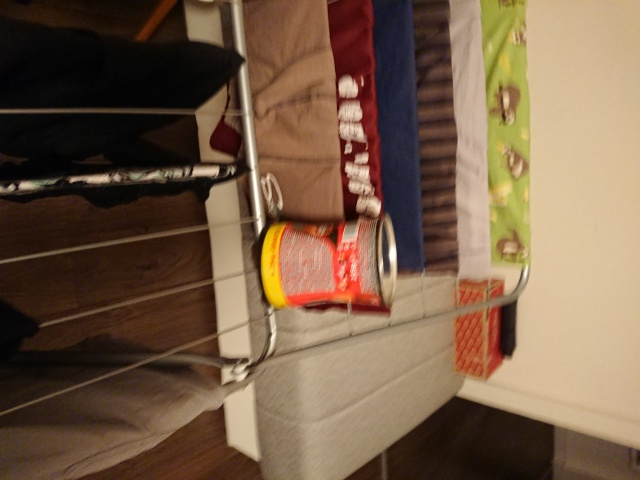Nescafe Classic 225g: (253, 209, 401, 321)
